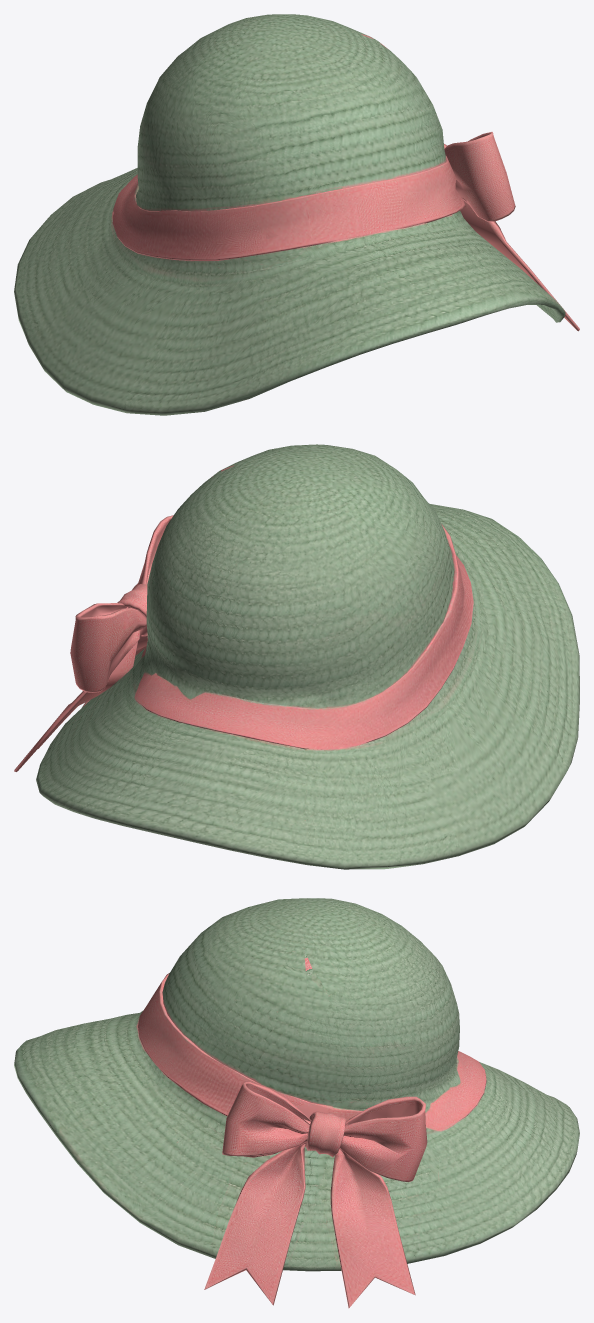
File: hat_garden_meshy.glb
The picture shows the model from 3 angles, top to bottom: view 1: azimuth 30°, elevation 25°; view 2: azimuth 150°, elevation 25°; view 3: azimuth 270°, elevation 25°; orthographic projection. The views are drawn at different scales.
Size of the model in its own units: 0.8179 by 0.5425 by 0.9561.
1 material, 1 textured.
